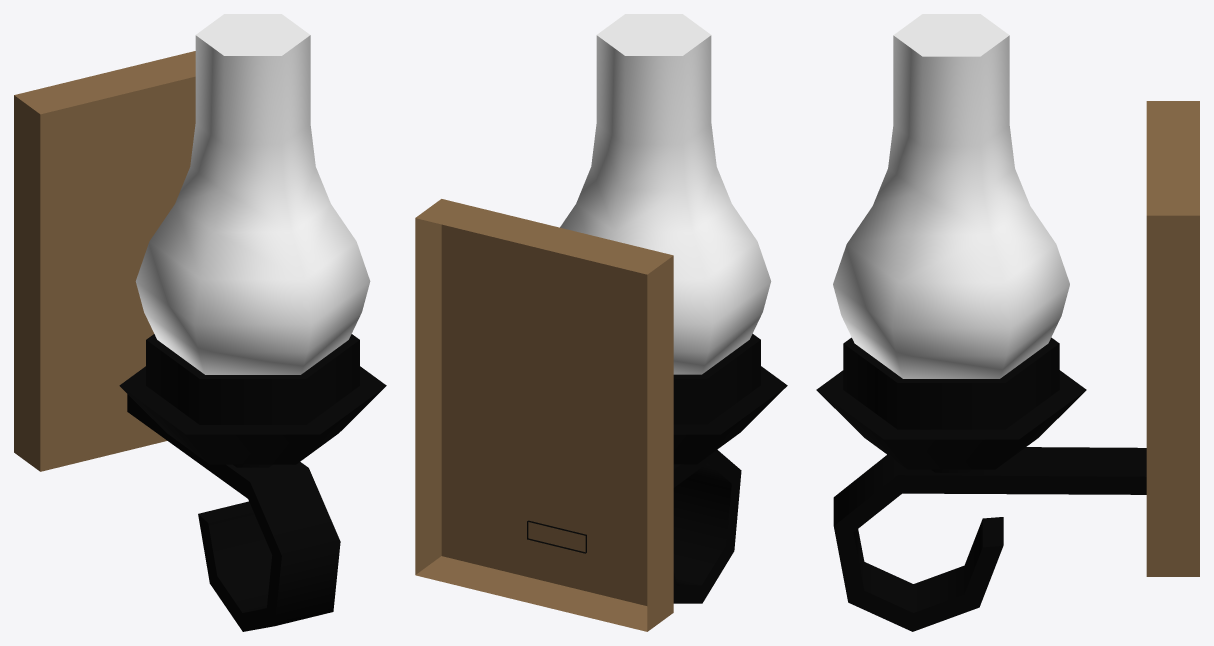
The model's file is SM_Prop_WallLamp_01.obj.
3 renders of one model, left to right at view 1: azimuth 30°, elevation 25°; view 2: azimuth 150°, elevation 25°; view 3: azimuth 270°, elevation 25°, orthographic.
Parts seen in each view (by area): view 1: SM_Prop_WallLamp_01_Mat_SwatchOverlay_Farm_01_Inst, SM_Prop_WallLamp_01_Mat_Glow_Lamp_Inst; view 2: SM_Prop_WallLamp_01_Mat_SwatchOverlay_Farm_01_Inst, SM_Prop_WallLamp_01_Mat_Glow_Lamp_Inst; view 3: SM_Prop_WallLamp_01_Mat_SwatchOverlay_Farm_01_Inst, SM_Prop_WallLamp_01_Mat_Glow_Lamp_Inst.
Boxes of the visible parts, x1,y1,x2,y2 form: SM_Prop_WallLamp_01_Mat_SwatchOverlay_Farm_01_Inst: (14, 51, 386, 631); SM_Prop_WallLamp_01_Mat_Glow_Lamp_Inst: (135, 14, 370, 374); SM_Prop_WallLamp_01_Mat_SwatchOverlay_Farm_01_Inst: (415, 199, 787, 631); SM_Prop_WallLamp_01_Mat_Glow_Lamp_Inst: (560, 14, 771, 374); SM_Prop_WallLamp_01_Mat_SwatchOverlay_Farm_01_Inst: (816, 101, 1199, 631); SM_Prop_WallLamp_01_Mat_Glow_Lamp_Inst: (833, 14, 1069, 378).
Size of the model in its own units: 0.1353 by 0.3204 by 0.1914.
Materials: 2 (1 with a texture image).
